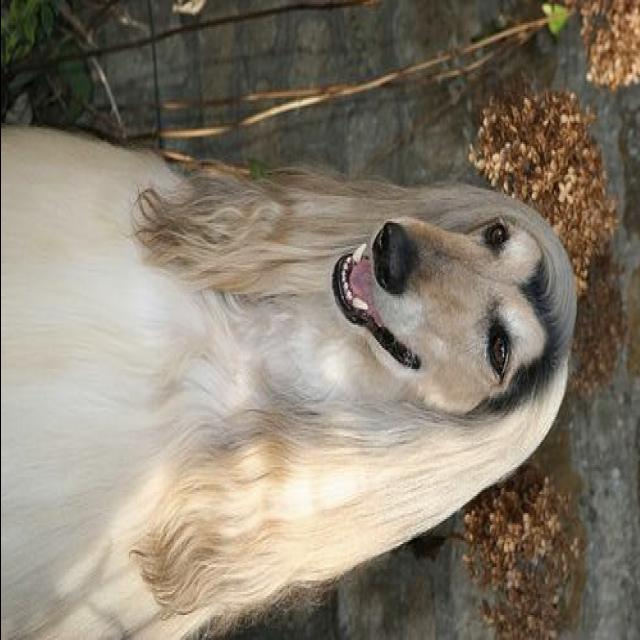afghan_hound: (2, 125, 578, 636)
